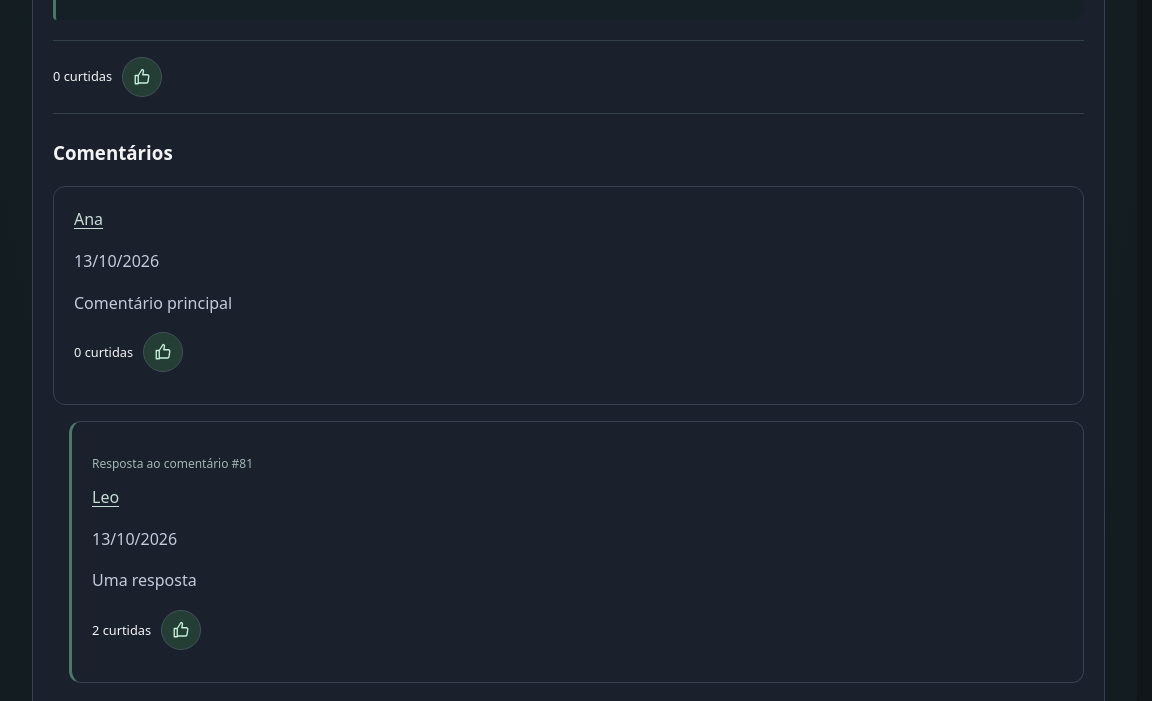
Scenario: contagem usa confirmação da API inclusive curtidas concorrentes
(page scrolled)
Expected: the text "Comentário principal" is shown, left=74, top=292, right=232, bottom=314
Click the button named "Curtir comentário de Ana": (164, 352) left=144, top=332, right=184, bottom=372
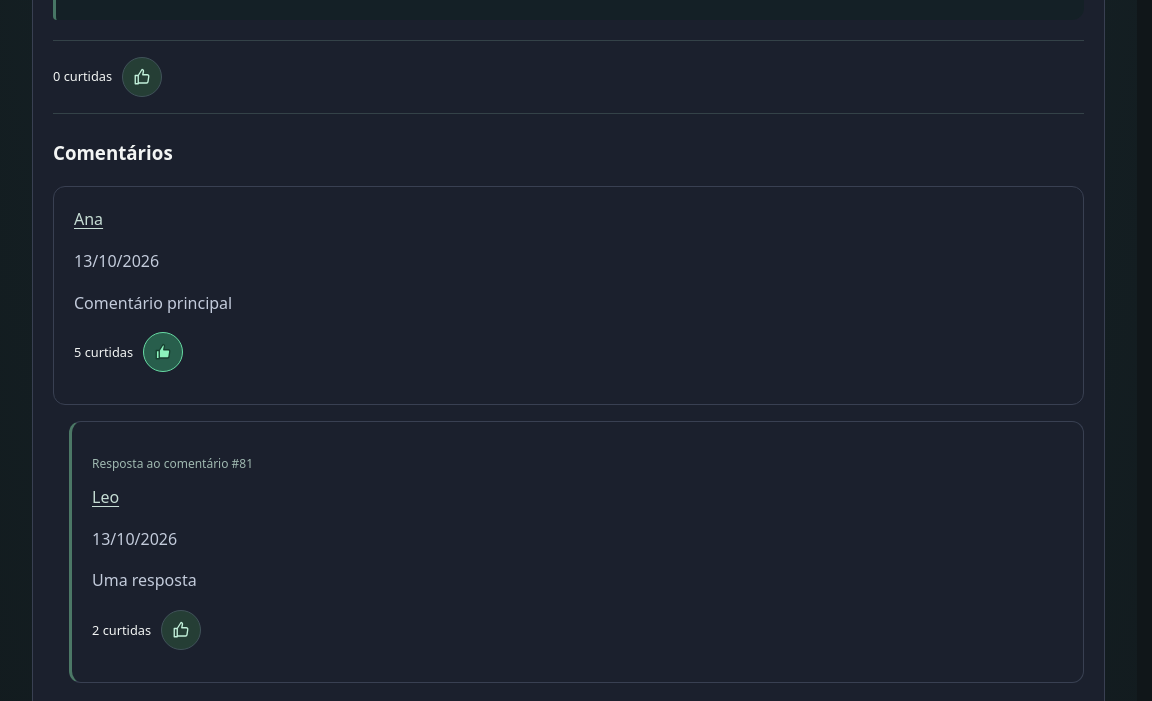
Now the button named "Retirar curtida do comentário de Ana" is shown, box left=144, top=332, right=184, bottom=372
Now the text "5 curtidas" is shown, box left=74, top=342, right=133, bottom=362
